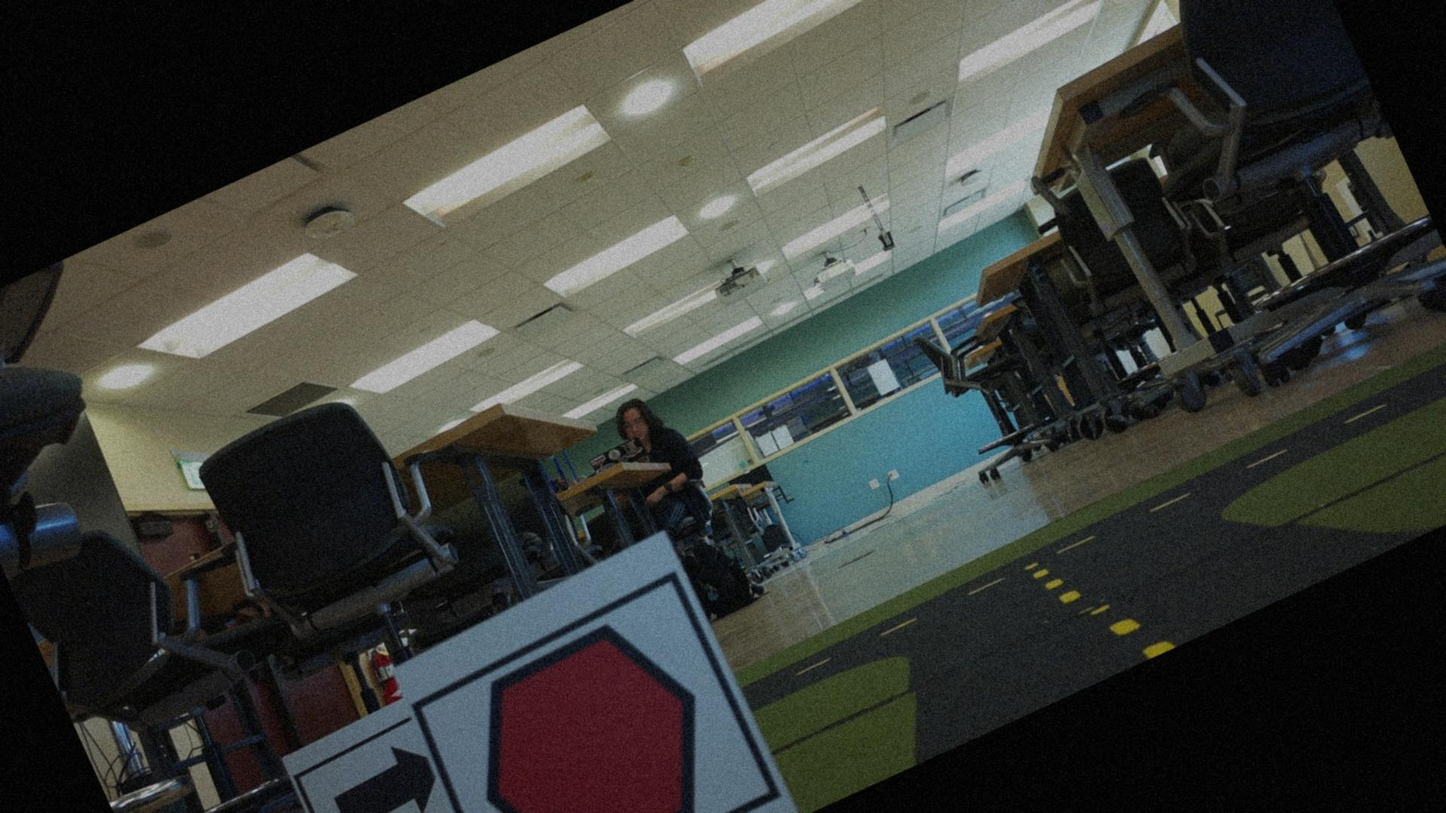stop: (424, 589, 762, 812)
turnright: (299, 726, 456, 812)
yellowline: (1106, 597, 1179, 668), (1030, 552, 1087, 614)
